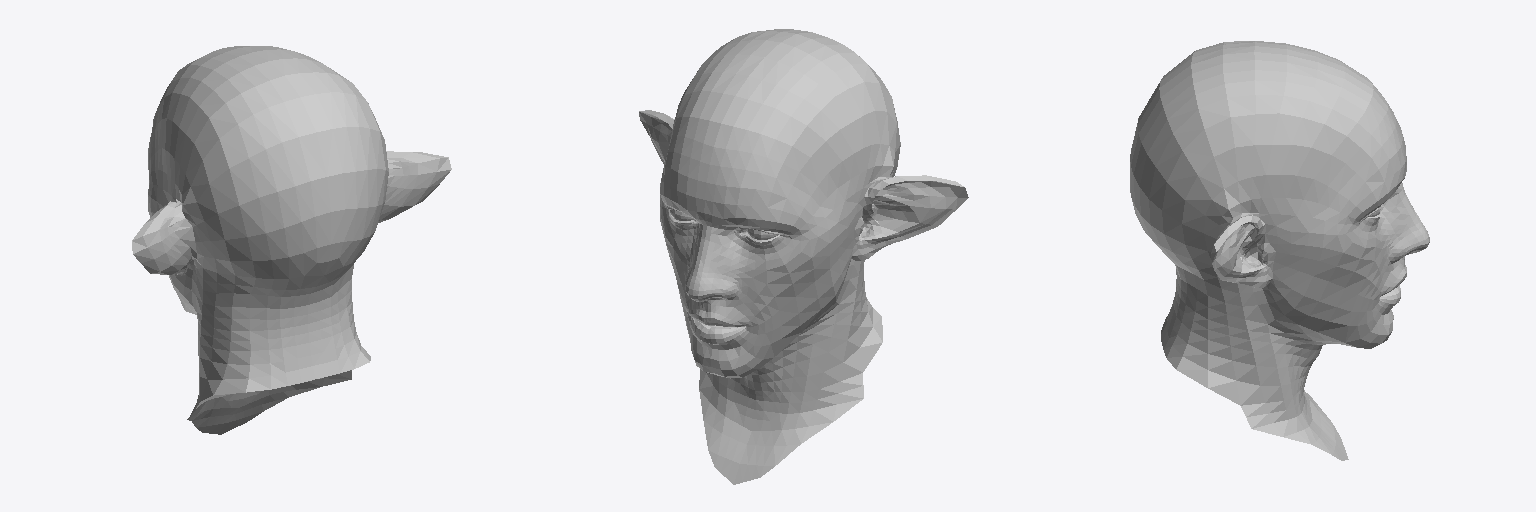
Rendered from bigEar.obj.
The picture shows the model from 3 angles: view 1: azimuth 30°, elevation 25°; view 2: azimuth 150°, elevation 25°; view 3: azimuth 270°, elevation 25°; orthographic projection.
Parts seen in each view (by area): view 1: mesh0; view 2: mesh0; view 3: mesh0.
Boxes of the visible parts, box(x1,y1,x2,y2) form: mesh0: box(132, 46, 451, 434); mesh0: box(639, 29, 968, 484); mesh0: box(1130, 41, 1429, 460).
Size of the model in its own units: 26.57 by 32 by 21.32.